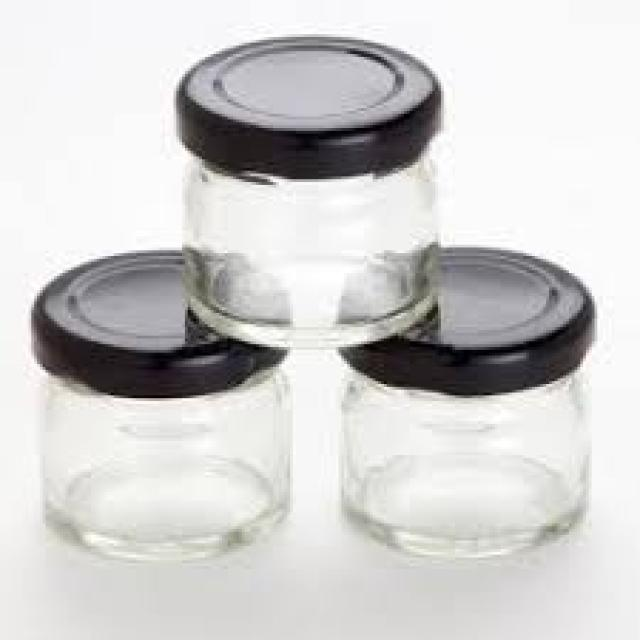Dry Waste: (169, 29, 449, 356)
